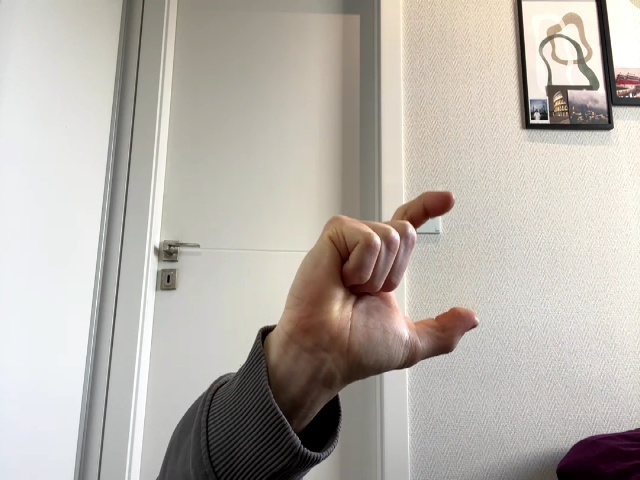C: (279, 191, 479, 379)
